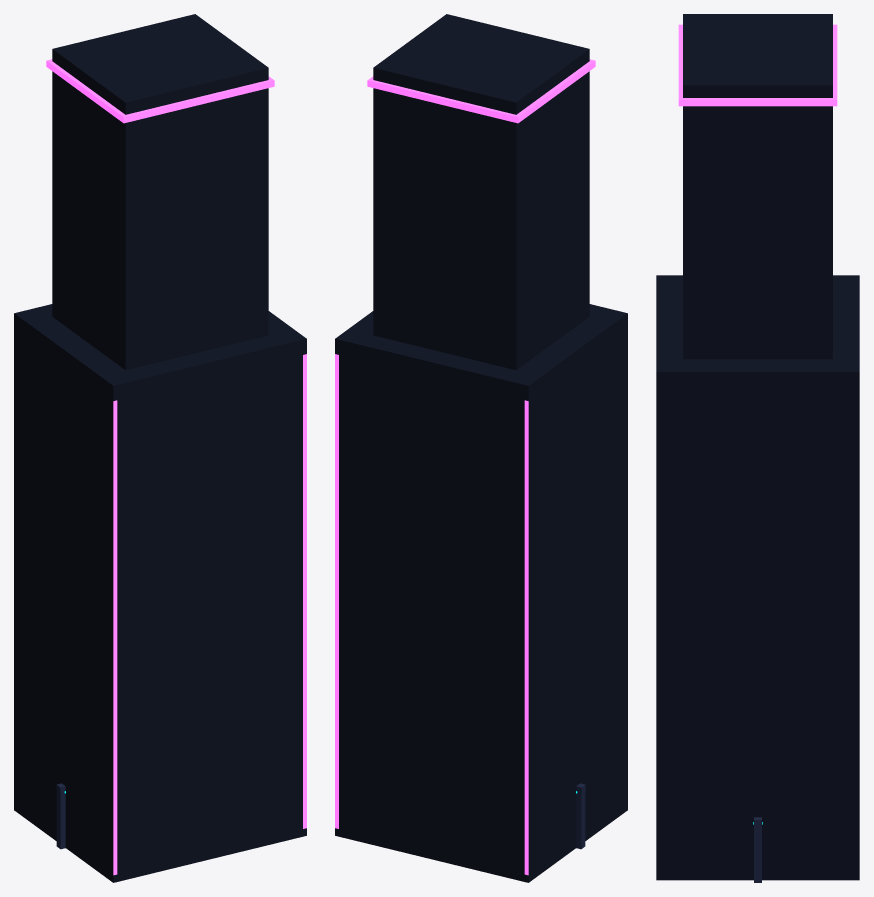
Rendered from NeonProps.fbx.
The picture shows the model from 3 angles, left to right: view 1: azimuth 30°, elevation 25°; view 2: azimuth 150°, elevation 25°; view 3: azimuth 270°, elevation 25°; orthographic projection. The views are drawn at different scales.
Parts seen in each view (by area): view 1: SkylineTower_B, CheckpointGate; view 2: SkylineTower_B, CheckpointGate; view 3: SkylineTower_B, CheckpointGate.
Part boxes in pixels (x1,y1,x2,y2): SkylineTower_B: (14, 14, 306, 882); CheckpointGate: (56, 783, 65, 849); SkylineTower_B: (335, 14, 627, 882); CheckpointGate: (576, 783, 585, 849); SkylineTower_B: (656, 14, 859, 880); CheckpointGate: (753, 817, 762, 882).
Bounding box in the file's own units: 19 × 68 × 16.03.
